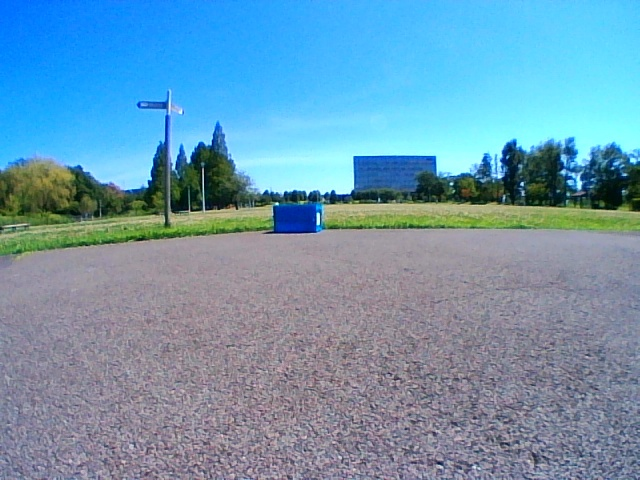blue_box: (273, 202, 322, 232)
tag: (316, 211, 320, 226)
